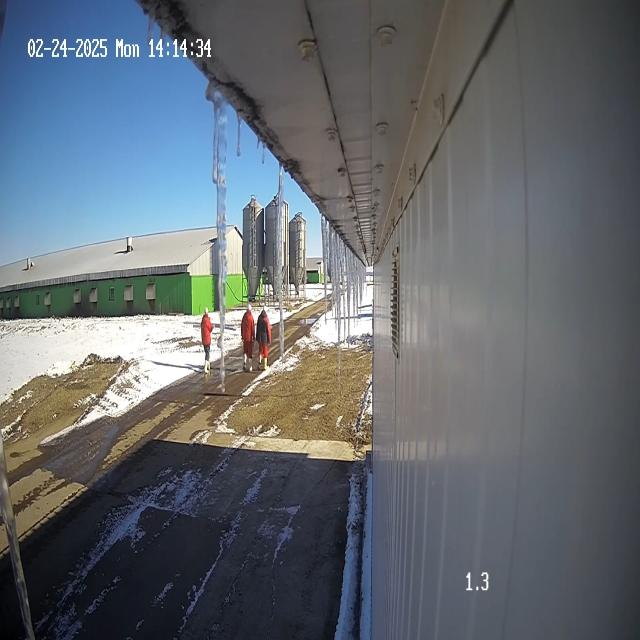Red uniform: (241, 306, 255, 371), (256, 309, 271, 369), (201, 308, 213, 374)
